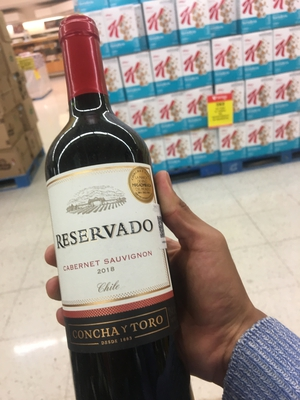reservado cabernet sauvignon: (39, 16, 193, 400)
